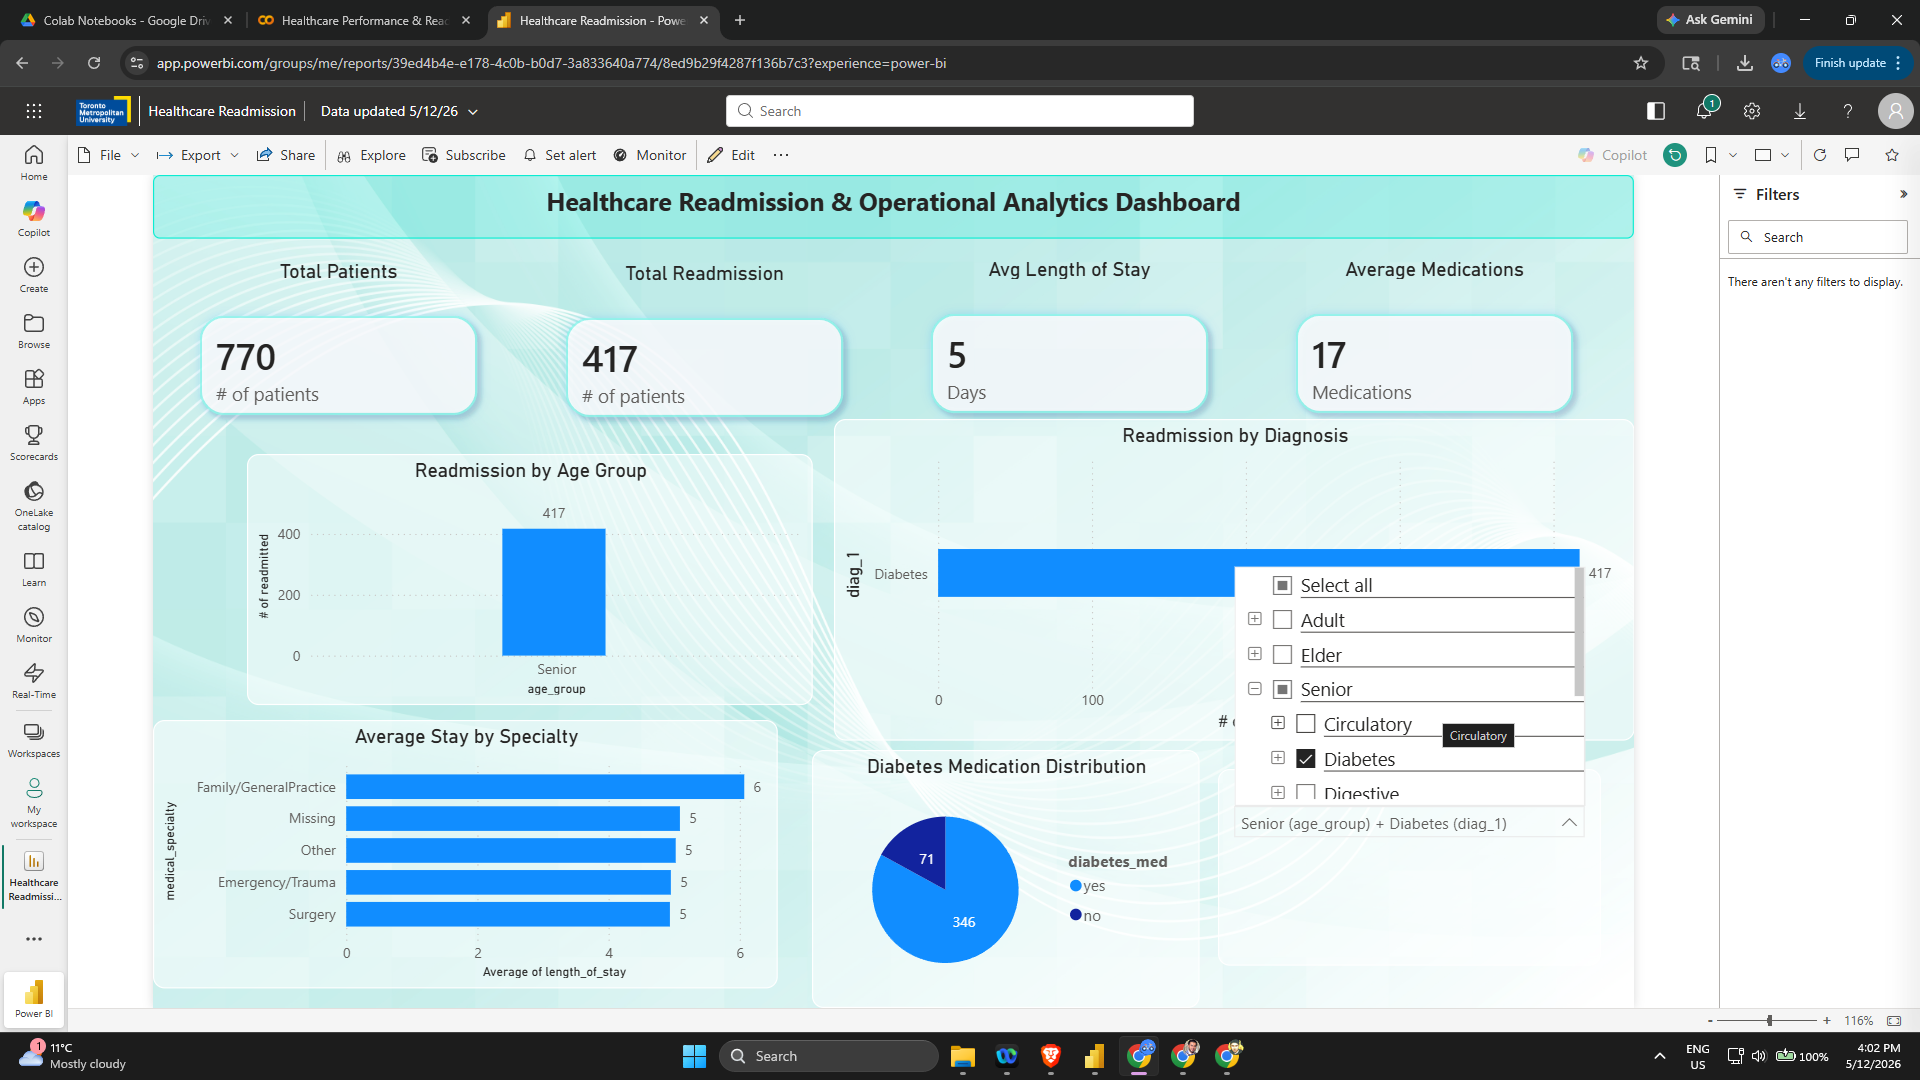

The page's visual inventory and layout, read from the dashboard file:
{"tool":"powerbi","page":{"name":"Executive Overview","canvas":[1280,720],"ordinal":0},"visuals":[{"type":"textbox","box":[0,0,1280,55.4],"z":0},{"type":"cardVisual","title":"Total Patients","fields":{"Data":["CountNonNull(cleaned_readmission_data.age)"]},"box":[10.7,72.9,300,165],"z":1000},{"type":"cardVisual","title":"Total Readmission","fields":{"Data":["CountNonNull(cleaned_readmission_data.readmitted)"]},"box":[326.5,73.9,300,165],"z":2000},{"type":"cardVisual","title":"Avg Length of Stay","fields":{"Data":["Avg(cleaned_readmission_data.length_of_stay)"]},"box":[642.3,71,300,165],"z":3000},{"type":"cardVisual","title":"Average Medications","fields":{"Data":["Avg(cleaned_readmission_data.n_medications)"]},"box":[958.1,71,300,165],"z":4000},{"type":"clusteredColumnChart","title":"Readmission by Age Group","fields":{"Category":["cleaned_readmission_data.age_group"],"Y":["CountNonNull(cleaned_readmission_data.readmitted)"]},"box":[81.6,241.2,488.6,217.2],"z":5000},{"type":"barChart","title":"Readmission by Diagnosis","fields":{"Y":["CountNonNull(cleaned_readmission_data.readmitted)"],"Category":["cleaned_readmission_data.diag_1"]},"box":[588.8,211,691.6,278.4],"z":6000},{"type":"barChart","title":"Average Stay by Specialty","fields":{"Category":["cleaned_readmission_data.medical_specialty"],"Y":["Avg(cleaned_readmission_data.length_of_stay)"]},"box":[0,470.8,540,232.3],"z":7000},{"type":"pieChart","title":"Diabetes Medication Distribution","fields":{"Category":["cleaned_readmission_data.diabetes_med"],"Y":["CountNonNull(cleaned_readmission_data.age)"]},"box":[570,497,334.6,222.7],"z":8000},{"type":"slicer","fields":{"Values":["cleaned_readmission_data.age_group","cleaned_readmission_data.diag_1","cleaned_readmission_data.medical_specialty","cleaned_readmission_data.readmitted"]},"box":[920.1,513.6,330.7,170.2],"z":9000}]}

Visuals, with their boxes on the page's 1280x720 design canvas (x1, y1, x2, y2). These are canvas units, not pixel positions in the 1920x1080 screenshot, which may show the page scaled, cropped or inside an application window:
textbox: box(0, 0, 1280, 55)
"Total Patients" cardVisual: box(11, 73, 311, 238)
"Total Readmission" cardVisual: box(326, 74, 626, 239)
"Avg Length of Stay" cardVisual: box(642, 71, 942, 236)
"Average Medications" cardVisual: box(958, 71, 1258, 236)
"Readmission by Age Group" clusteredColumnChart: box(82, 241, 570, 458)
"Readmission by Diagnosis" barChart: box(589, 211, 1280, 489)
"Average Stay by Specialty" barChart: box(0, 471, 540, 703)
"Diabetes Medication Distribution" pieChart: box(570, 497, 905, 720)
slicer - cleaned_readmission_data.age_group x cleaned_readmission_data.diag_1: box(920, 514, 1251, 684)
